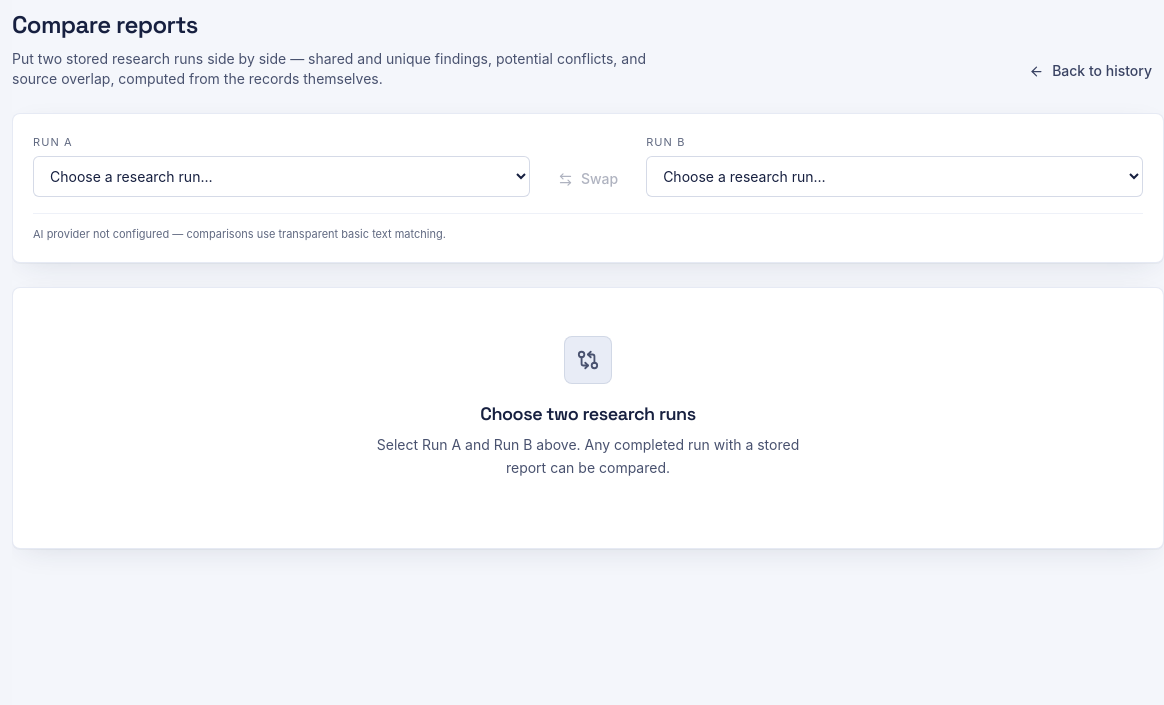
Test: Compare page › renders the comparison sections and export links for two runs
Expected: the heading "Choose two research runs" is shown, [480,400,696,428]
Select "query alpha — Jan 1, 2026 · run-a" in the dropdown labelled "Run A". click: (281, 176)
box: [33,156,530,197]
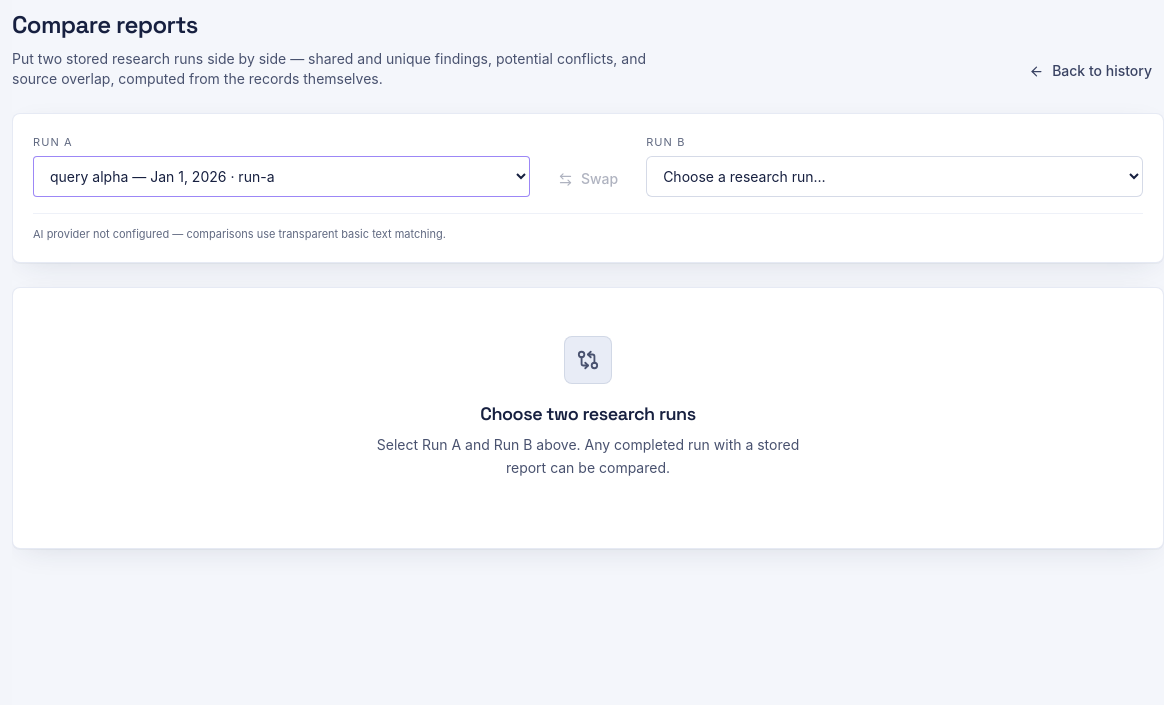
Select "query beta — Jan 1, 2026 · run-b" in the dropdown labelled "Run B". click: (895, 176)
box: [646,156,1143,197]
(page scrolled)
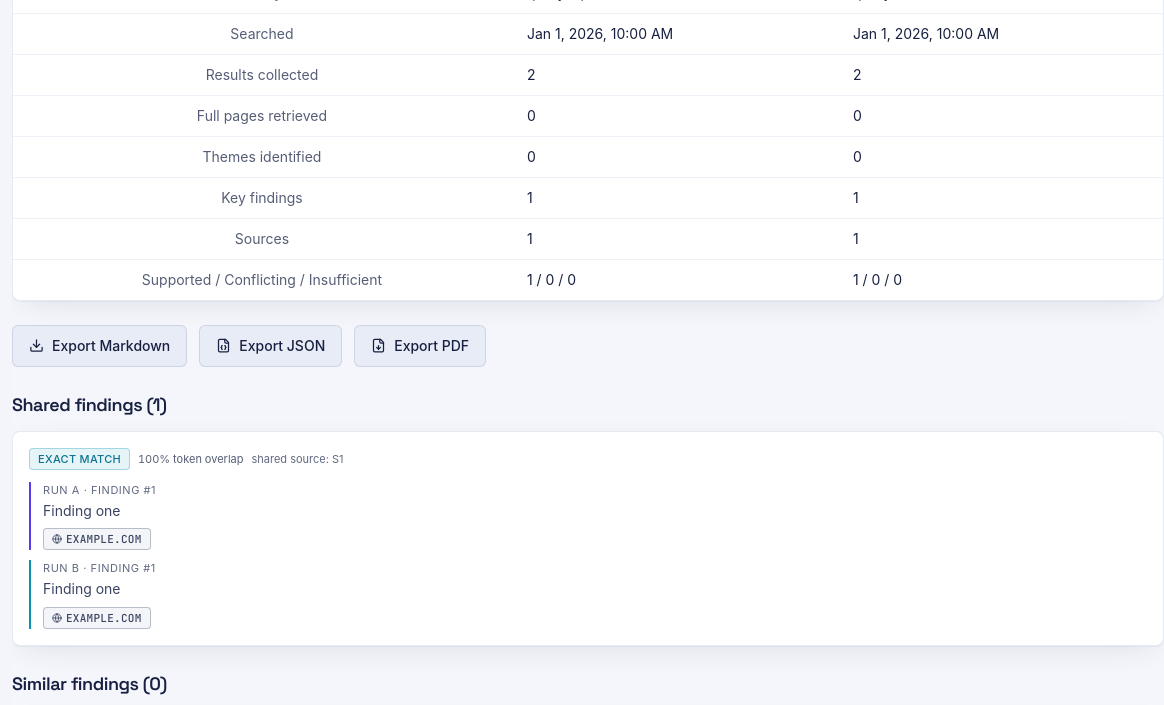
Now the heading "Shared findings (1)" is shown, box [12,392,167,416]
Now the text "Exact match" is shown, box [29,448,130,470]
